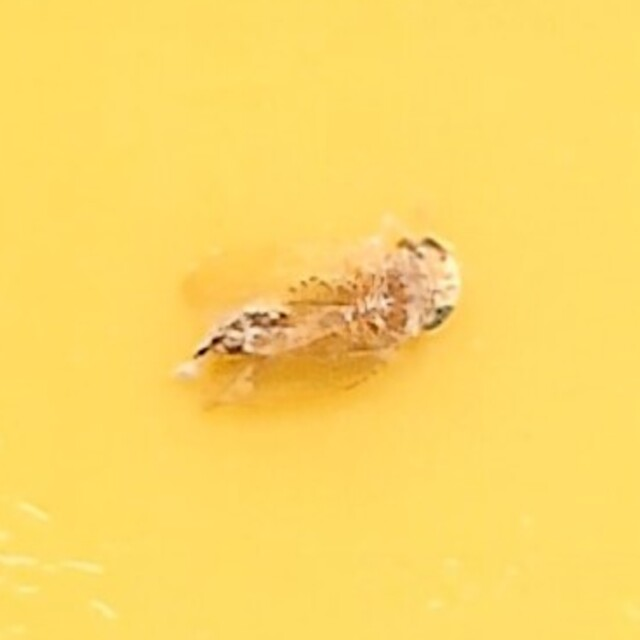Hemiptera: (174, 223, 466, 417)
